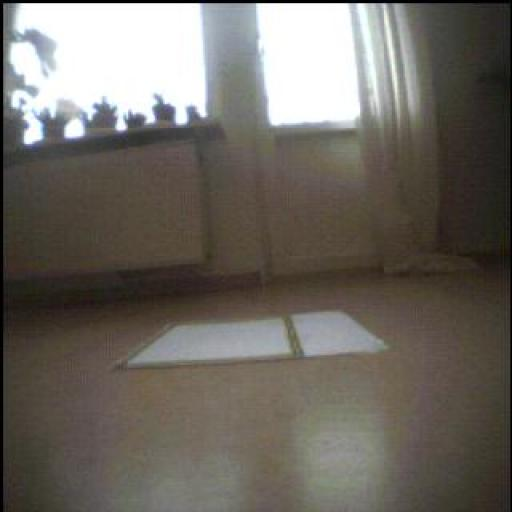Pad: (121, 311, 387, 369), (292, 311, 388, 358)
